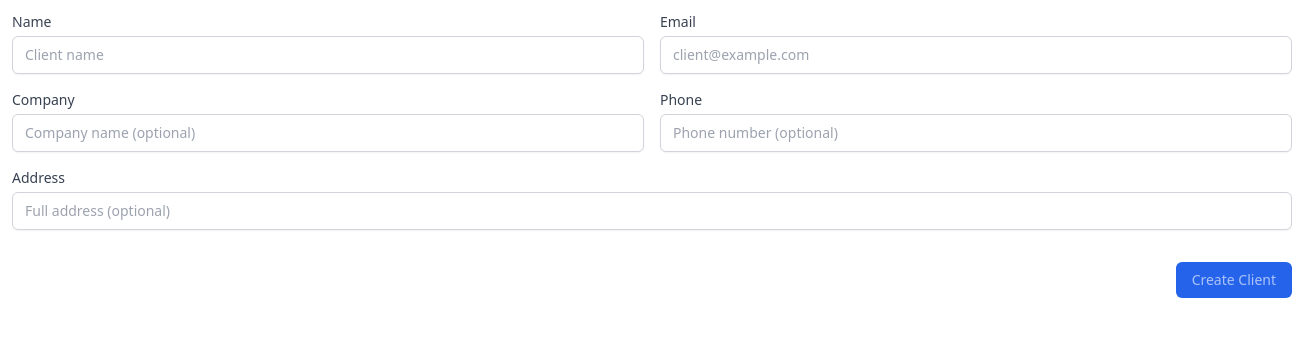
Test: ClientForm › displays validation error for required name field
This screenshot has width=1304, height=340.
Click the button "Create Client" at (1234, 280), box [1176,262,1292,298]
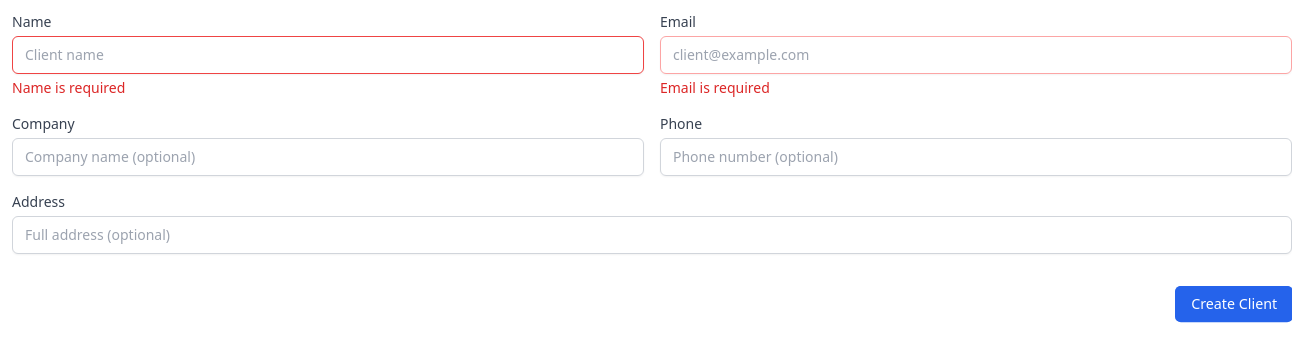
Check: the text "Name is required" is shown, box [12,78,125,97]
